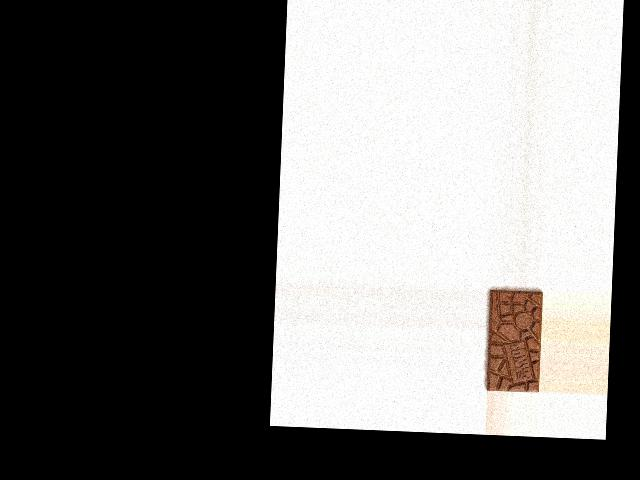chocolate: (483, 288, 542, 393)
